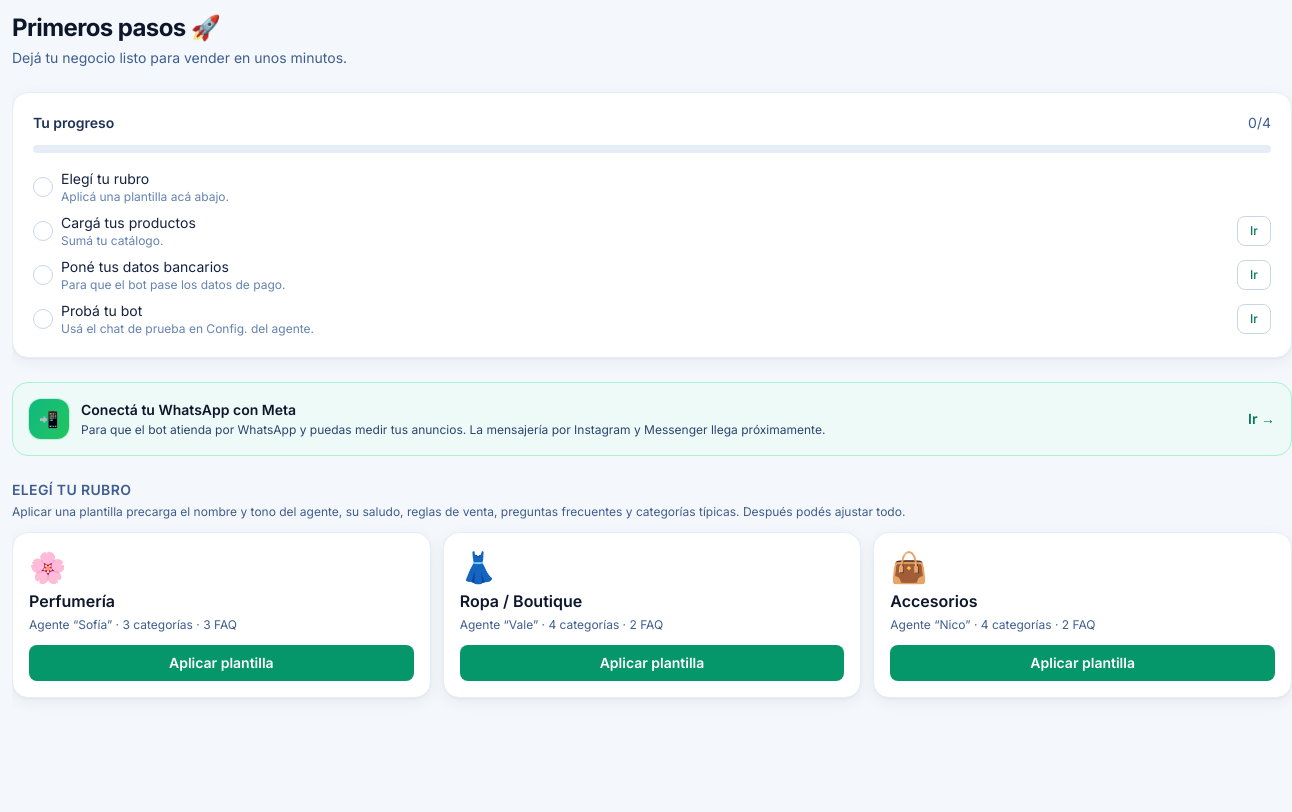
Test: H-39 · aplicar la plantilla no falla en silencio › si falla, muestra el motivo
This screenshot has width=1292, height=812.
What coordinates should you click on to do the following:
click the button "Aplicar plantilla" below "Sofía"
I would click on:
 (221, 663)
Its box is [29,645,414,681].
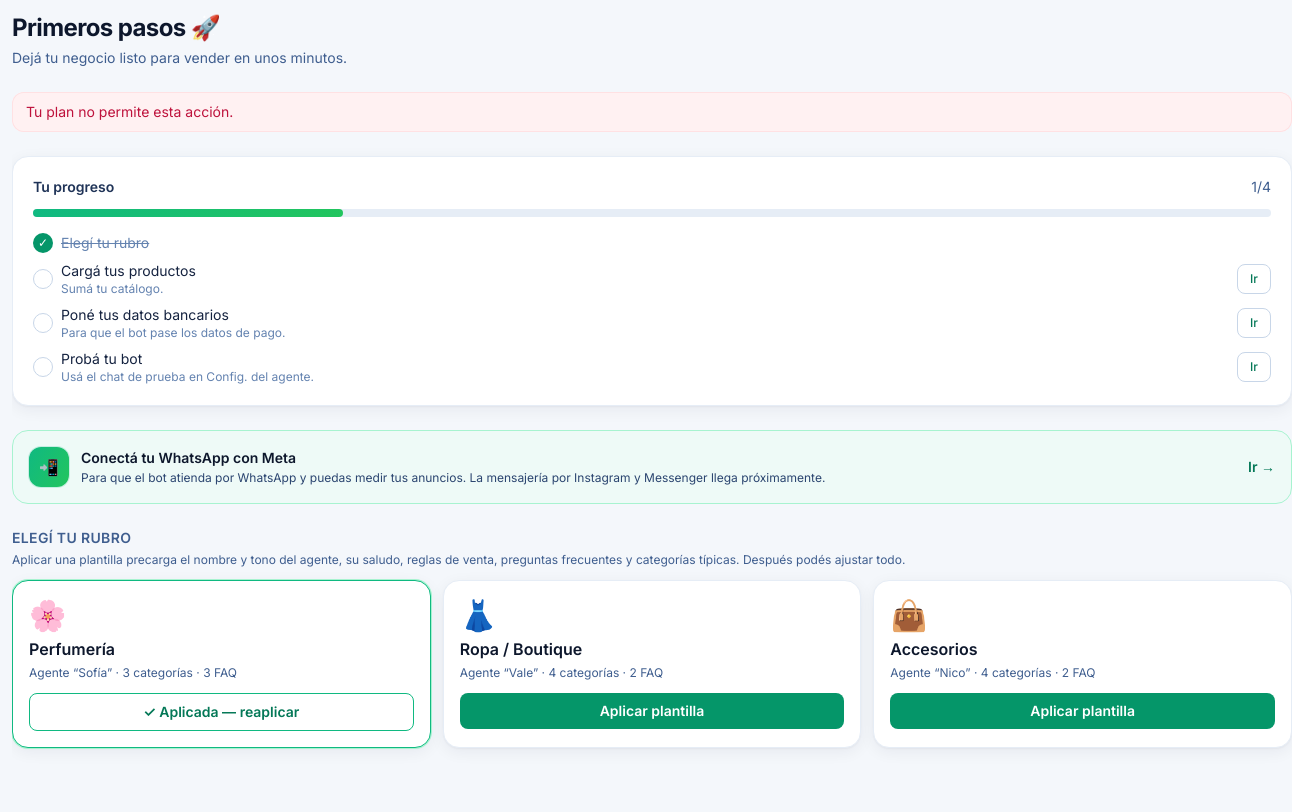
Result: the message shows "Tu plan no permite esta acción" at [26,103,233,120]
